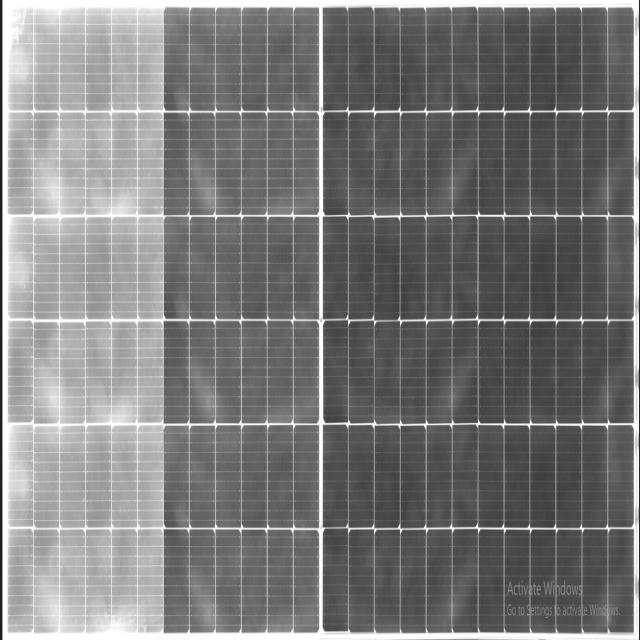CORRECT: (315, 0, 639, 632), (19, 52, 345, 632)
